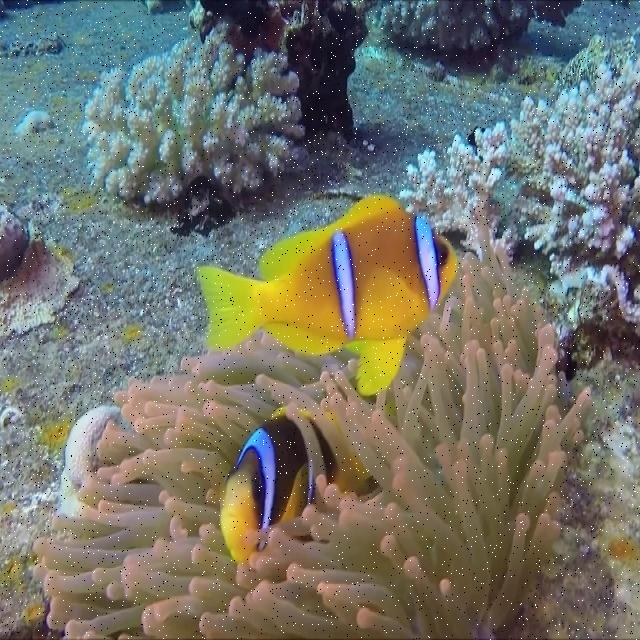aquatic plants: (32, 209, 592, 639)
fish: (195, 195, 458, 398), (220, 399, 400, 563)
reefs: (400, 57, 639, 355), (82, 35, 309, 203)
